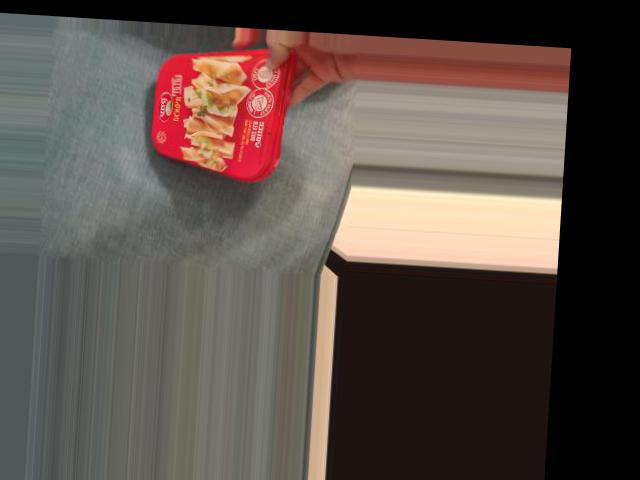cheese: (144, 38, 303, 184)
